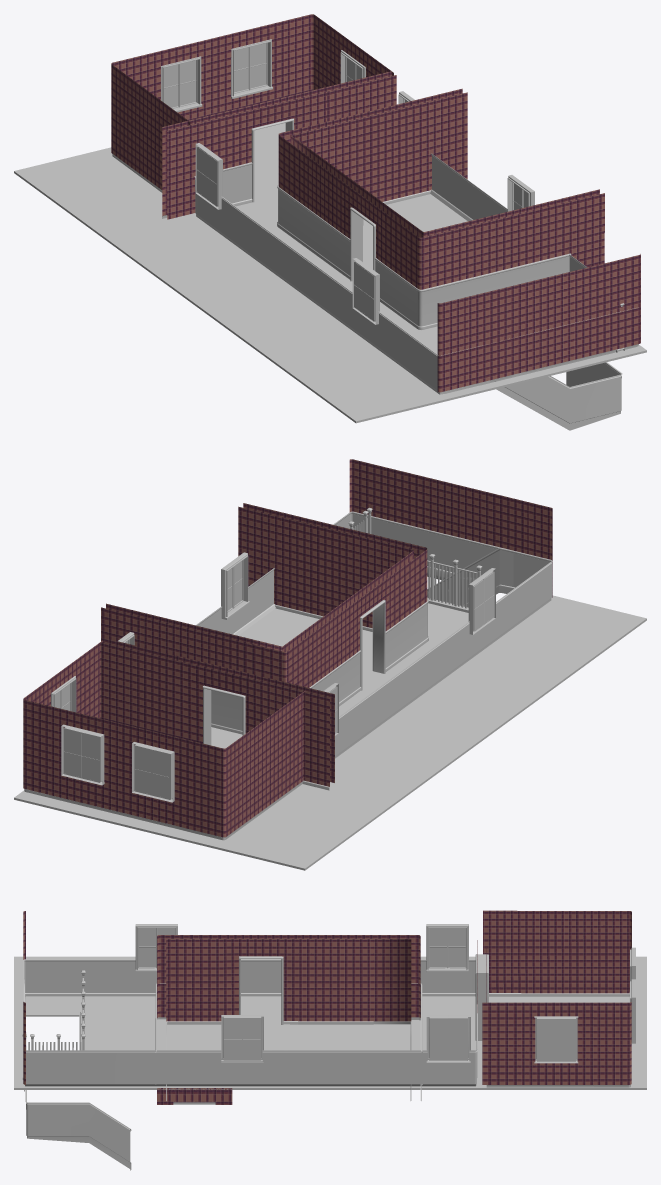
File: Cabin_lv2.fbx
3 renders of one model, top to bottom at view 1: azimuth 30°, elevation 25°; view 2: azimuth 150°, elevation 25°; view 3: azimuth 270°, elevation 25°, orthographic. The views are drawn at different scales.
Visible parts, largest first — view 1: cabin_lv2; view 2: cabin_lv2; view 3: cabin_lv2.
Boxes of the visible parts, <box> form: cabin_lv2: <box>14,14,646,430</box>; cabin_lv2: <box>14,459,646,870</box>; cabin_lv2: <box>14,910,646,1170</box>.
Bounding box in the file's own units: 925 × 513 × 1679.
